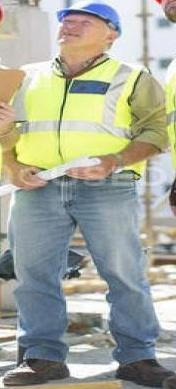boots: (2, 357, 70, 385), (0, 371, 30, 389)
hard-hat: (56, 0, 120, 35)
vest: (0, 25, 68, 172)
